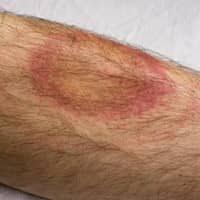Tick: (0, 10, 170, 140)
